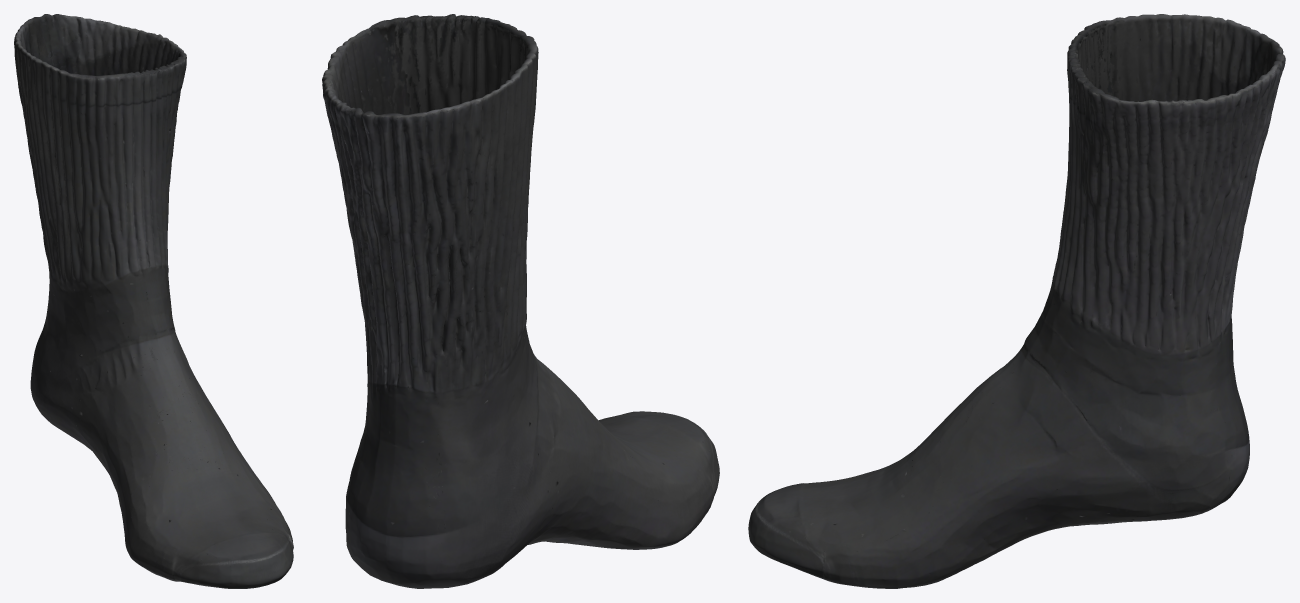
Rendered from quality.glb.
3 views of the same model, side by side, from view 1: azimuth 30°, elevation 25°; view 2: azimuth 150°, elevation 25°; view 3: azimuth 270°, elevation 25° (orthographic). The views are drawn at different scales.
Size of the model in its own units: 0.7215 by 2 by 1.92.
Materials: 1 (1 with a texture image).
